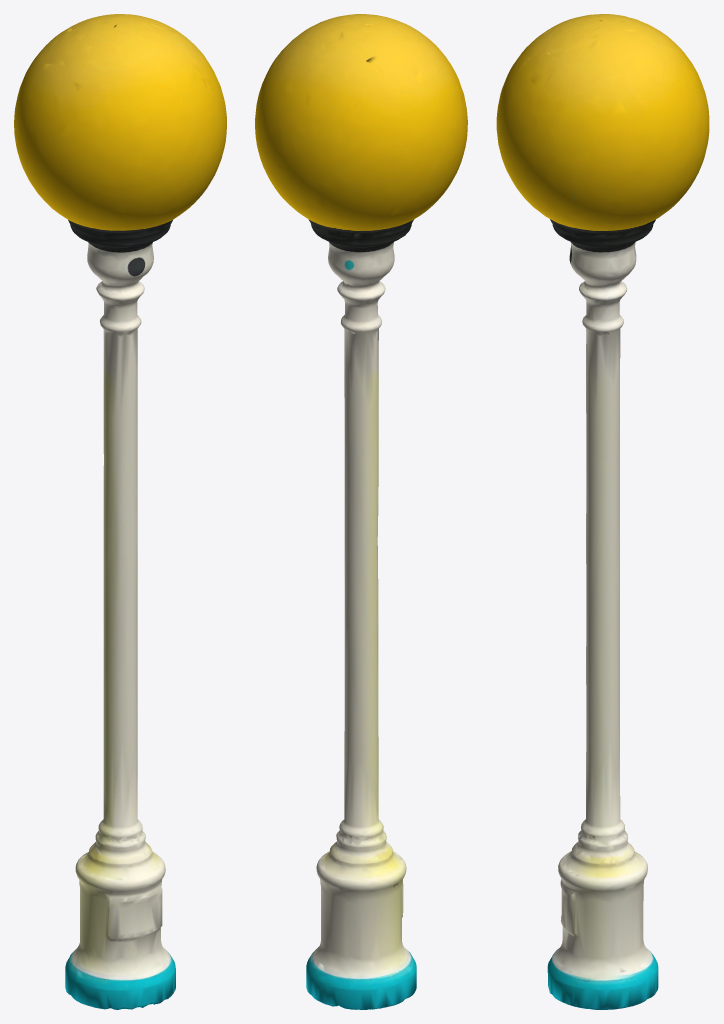
Rendered from street_lamp.glb.
3 renders of one model, left to right at view 1: azimuth 30°, elevation 25°; view 2: azimuth 150°, elevation 25°; view 3: azimuth 270°, elevation 25°, orthographic.
Parts seen in each view (by area): view 1: Mesh_0; view 2: Mesh_0; view 3: Mesh_0.
Boxes of the visible parts, x1,y1,x2,y2 form: Mesh_0: [14, 14, 226, 1009]; Mesh_0: [255, 14, 467, 1009]; Mesh_0: [496, 14, 709, 1009].
Size of the model in its own units: 0.5014 by 2.5 by 0.501.
1 material, 1 textured.
